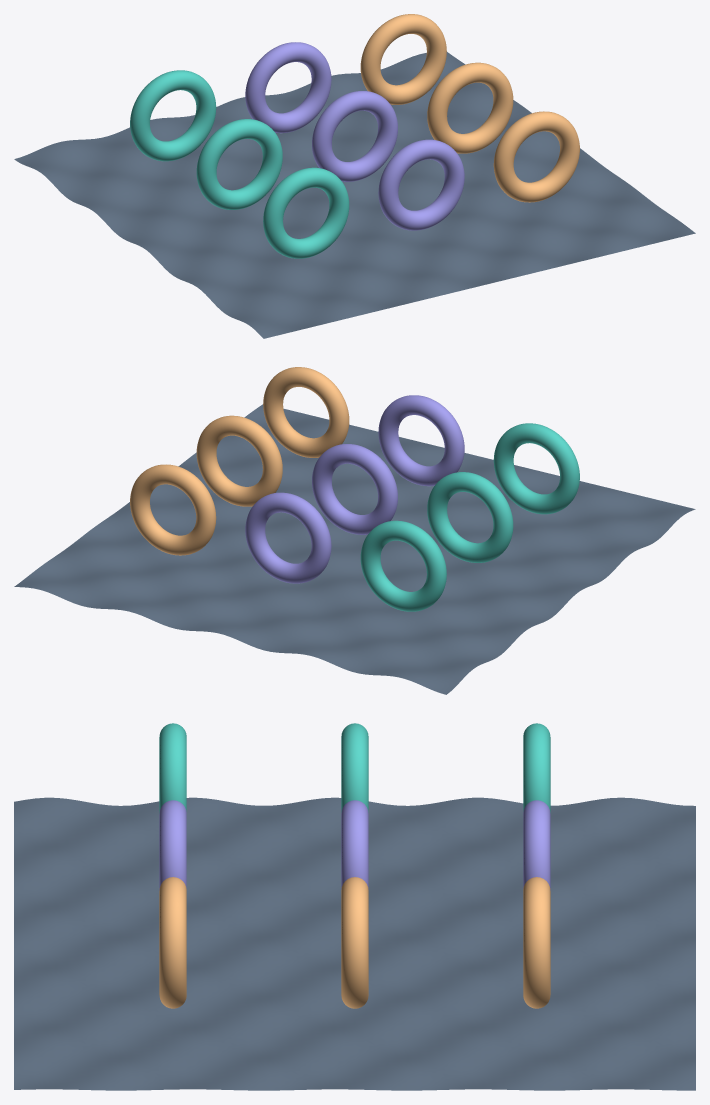
The model's file is garden.gltf.
The picture shows the model from 3 angles, top to bottom: view 1: azimuth 30°, elevation 25°; view 2: azimuth 150°, elevation 25°; view 3: azimuth 270°, elevation 25°; orthographic projection. The views are drawn at different scales.
Visible parts, largest first — view 1: Wave-plinth, Ring-8, Ring-7, Ring-9, Ring-1, Ring-4, Ring-6, Ring-2, Ring-3, Ring-5; view 2: Wave-plinth, Ring-2, Ring-1, Ring-3, Ring-4, Ring-7, Ring-6, Ring-8, Ring-9, Ring-5; view 3: Wave-plinth, Ring-6, Ring-3, Ring-9, Ring-1, Ring-4, Ring-7, Ring-5, Ring-2, Ring-8.
Boxes of the visible parts, left/top/right/bottom form: Wave-plinth: left=14, top=52, right=695, bottom=338; Ring-8: left=378, top=139, right=464, bottom=230; Ring-7: left=263, top=167, right=349, bottom=258; Ring-9: left=493, top=111, right=579, bottom=202; Ring-1: left=130, top=70, right=216, bottom=161; Ring-4: left=196, top=119, right=282, bottom=209; Ring-6: left=427, top=62, right=513, bottom=153; Ring-2: left=245, top=42, right=331, bottom=133; Ring-3: left=360, top=14, right=446, bottom=104; Ring-5: left=312, top=91, right=397, bottom=181; Wave-plinth: left=14, top=404, right=695, bottom=694; Ring-2: left=245, top=492, right=331, bottom=583; Ring-1: left=360, top=520, right=446, bottom=611; Ring-3: left=130, top=464, right=216, bottom=555; Ring-4: left=427, top=472, right=513, bottom=562; Ring-7: left=493, top=423, right=579, bottom=514; Ring-6: left=196, top=415, right=282, bottom=506; Ring-8: left=378, top=395, right=464, bottom=486; Ring-9: left=263, top=367, right=349, bottom=457; Ring-5: left=312, top=444, right=397, bottom=534; Wave-plinth: left=14, top=797, right=695, bottom=1090; Ring-6: left=341, top=877, right=368, bottom=1008; Ring-3: left=523, top=877, right=550, bottom=1008; Ring-9: left=159, top=877, right=186, bottom=1008; Ring-1: left=523, top=723, right=550, bottom=813; Ring-4: left=341, top=723, right=368, bottom=812; Ring-7: left=159, top=723, right=186, bottom=813; Ring-5: left=341, top=800, right=368, bottom=889; Ring-2: left=523, top=800, right=550, bottom=890; Ring-8: left=159, top=800, right=186, bottom=890.
Bounding box in the file's own units: 12 × 2.79 × 12.
